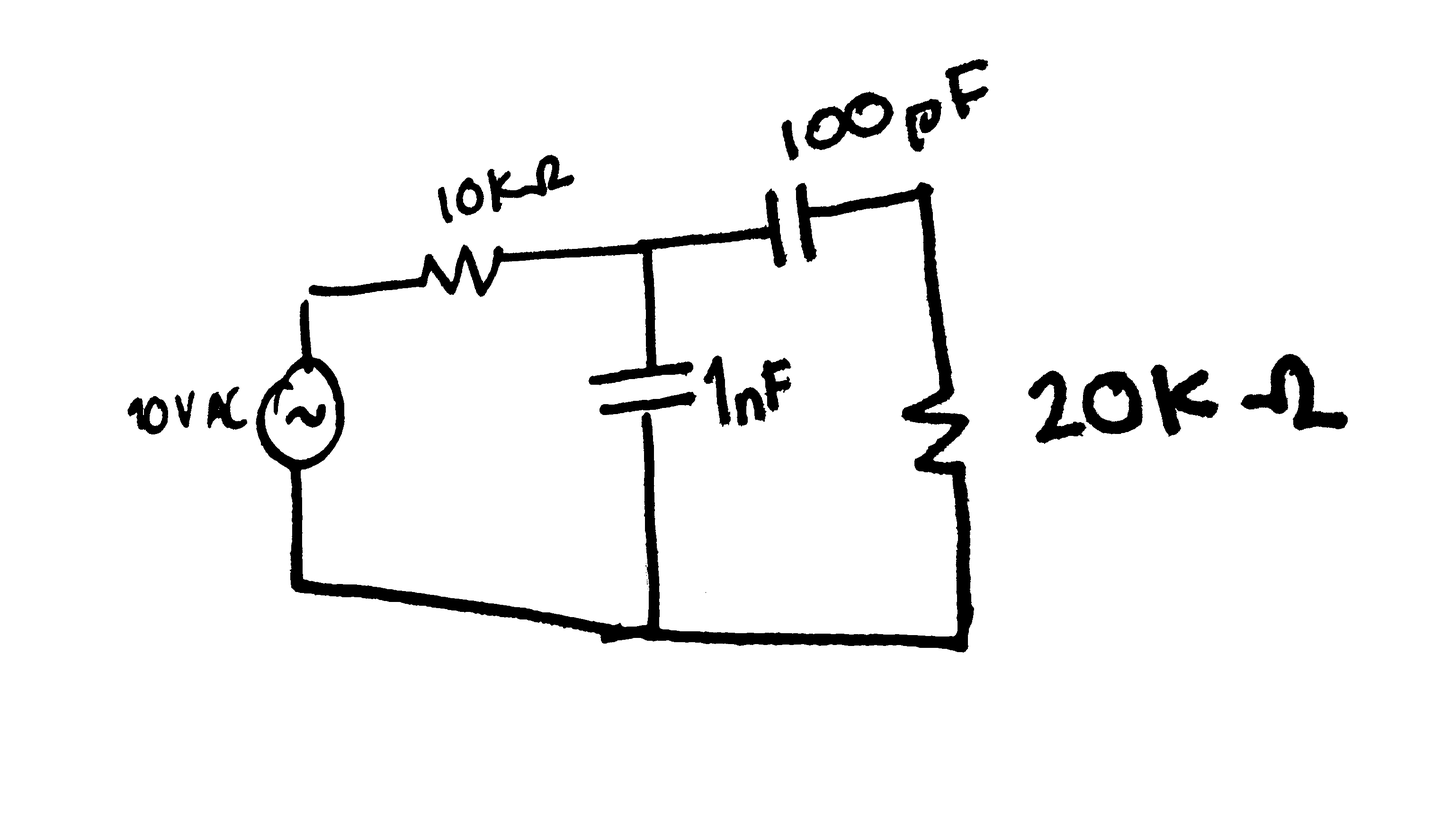capacitor.unpolarized: (583, 355, 703, 426), (759, 176, 827, 276)
junction: (938, 616, 977, 655), (909, 173, 947, 211), (635, 616, 672, 655), (623, 231, 665, 263), (290, 277, 325, 311), (282, 566, 318, 597)
resistor: (895, 379, 976, 487), (413, 242, 511, 304)
text: (1027, 351, 1352, 443), (769, 52, 993, 154), (429, 154, 582, 224), (112, 383, 250, 443), (701, 354, 799, 428)
voltage.ac: (252, 354, 348, 476)
